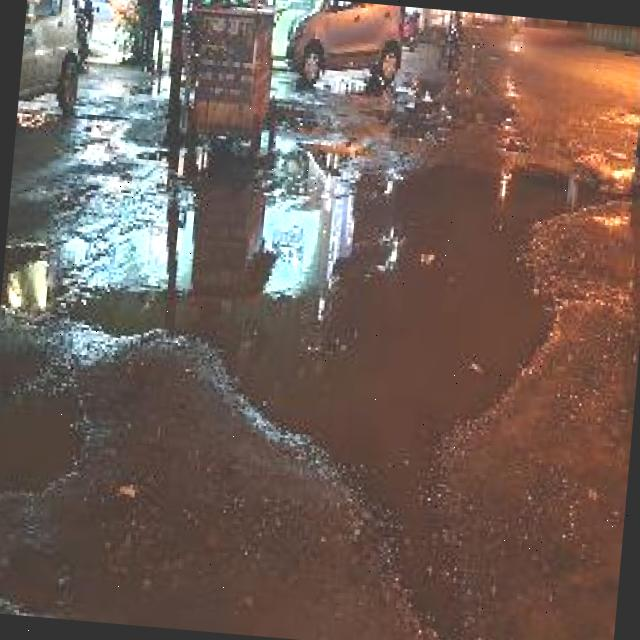stagnation: (9, 150, 605, 638)
